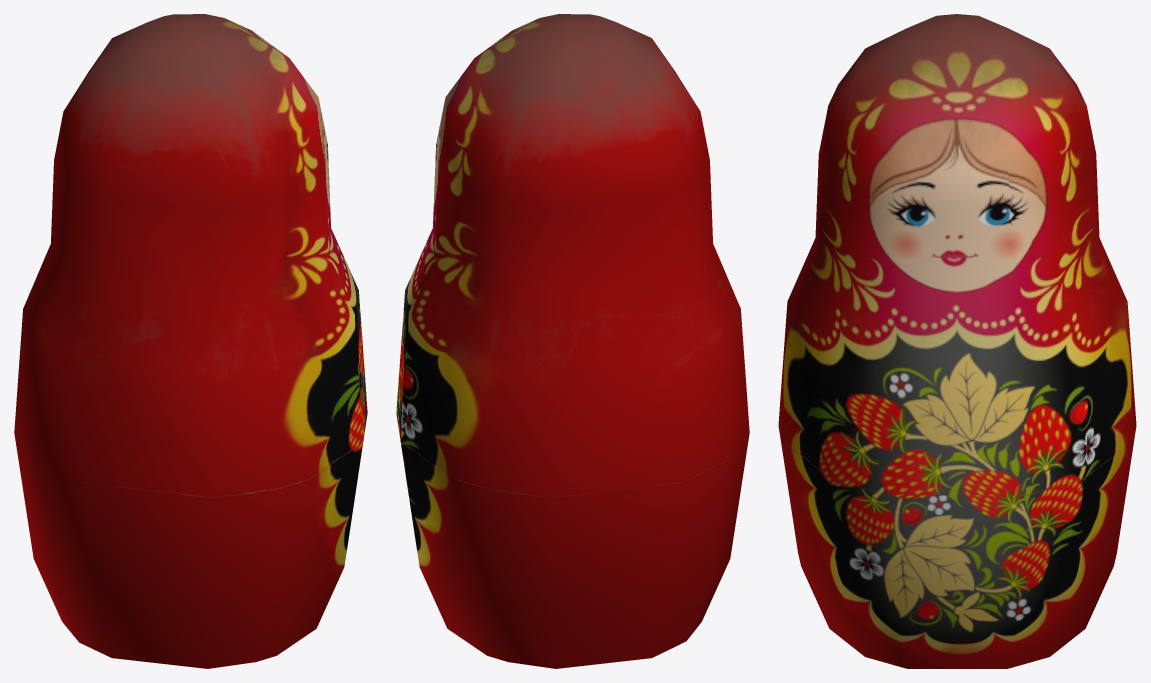
File: RS_matroshka.fbx
3 renders of one model, left to right at view 1: azimuth 30°, elevation 25°; view 2: azimuth 150°, elevation 25°; view 3: azimuth 270°, elevation 25°, orthographic.
Parts seen in each view (by area): view 1: Matroska bottom.001; view 2: Matroska bottom.001; view 3: Matroska bottom.001.
Part boxes in pixels (x1=…): Matroska bottom.001: x1=14, y1=14, x2=367, y2=668; Matroska bottom.001: x1=396, y1=14, x2=749, y2=668; Matroska bottom.001: x1=778, y1=14, x2=1136, y2=668.
Size of the model in its own units: 16.03 by 30.31 by 16.66.
